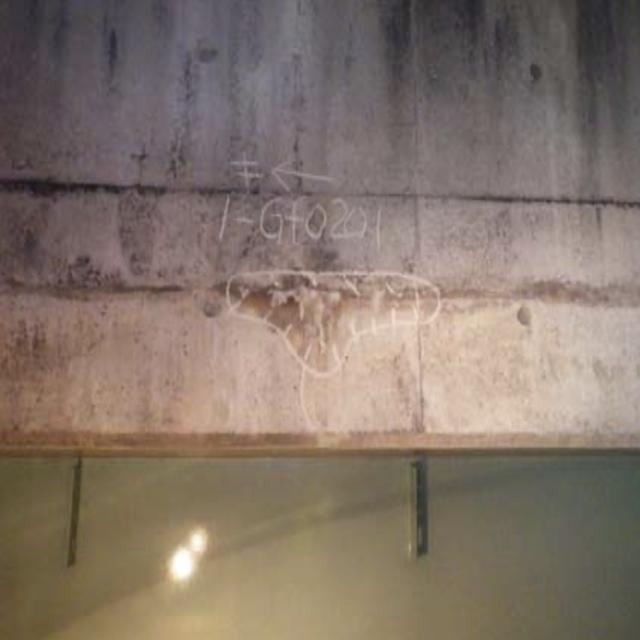freelime: (218, 260, 456, 366)
